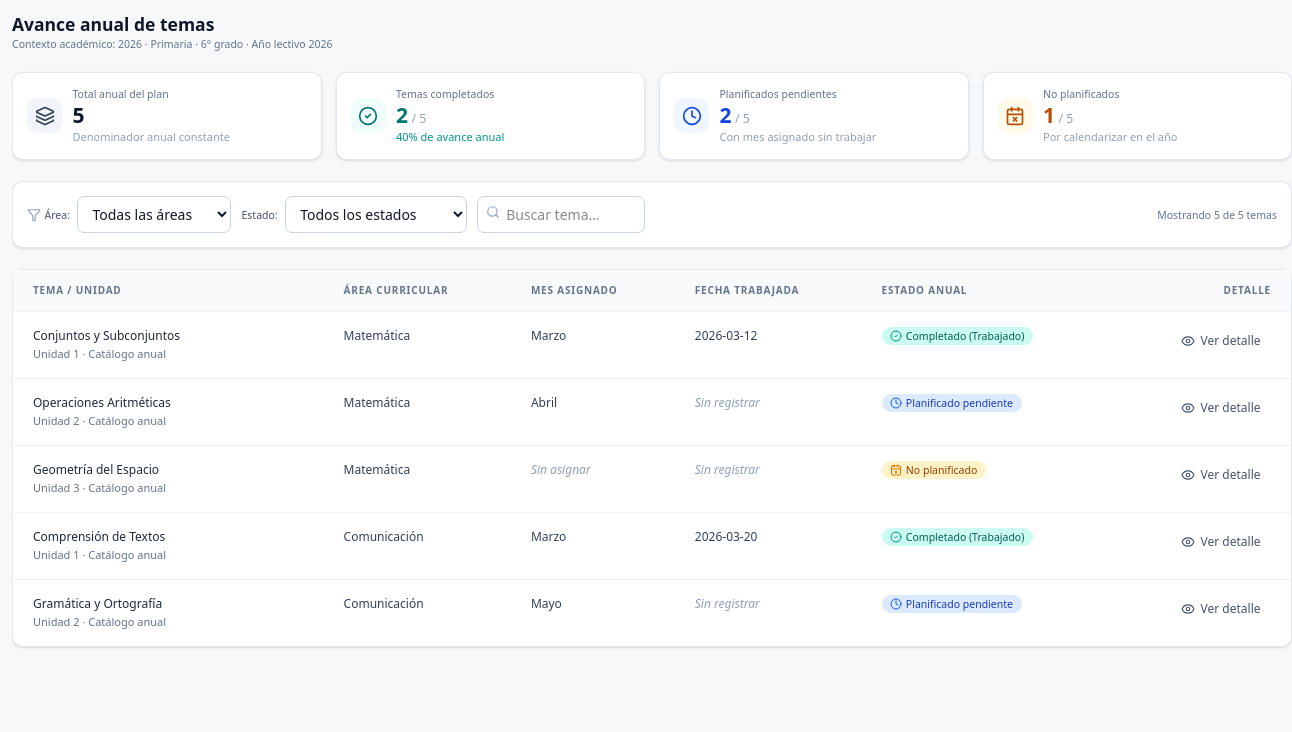
AnnualProgress Component › filters by area and status without modifying the total annual denominator
Expected: the text "Conjuntos y Subconjuntos" is shown, [33,327,180,344]
Expected: the text with test id "kpi-total-topics" reads "5", [72,100,84,128]
// Filter by area: Comunicación (has 2 topics)
Select "Comunicación (2)" in the dropdown named "filtrar por área" at (154, 214), box [77,196,231,233]
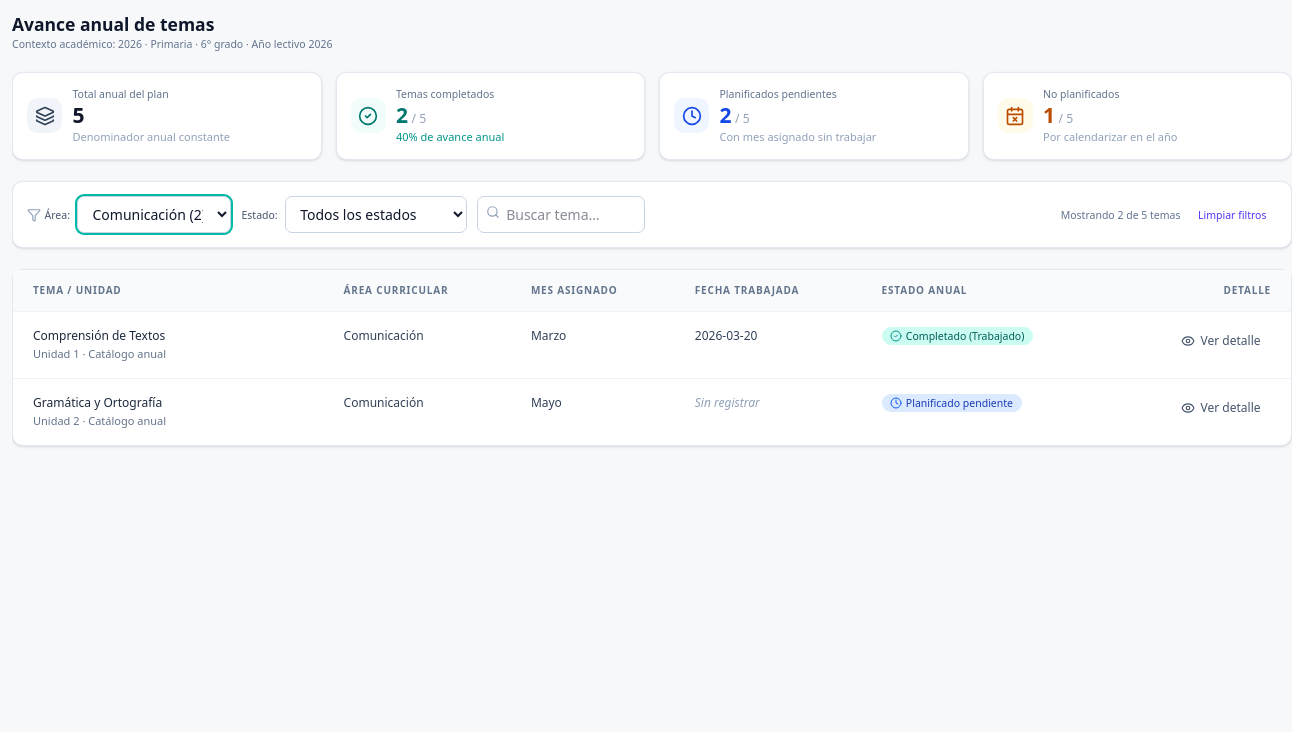
Expected: the text "Comprensión de Textos" is shown, [33,327,165,344]
Result: the text "Conjuntos y Subconjuntos" is gone
Result: the text "Mostrando 2 de 5 temas" is shown at [1061,208,1180,222]
// Filter by status: PLANIFICADO_PENDIENTE (only Gramática y Ortografía in Comunicación)
Select "Planificado pendiente" in the dropdown named "filtrar por estado" at (376, 214), box [285,196,467,233]
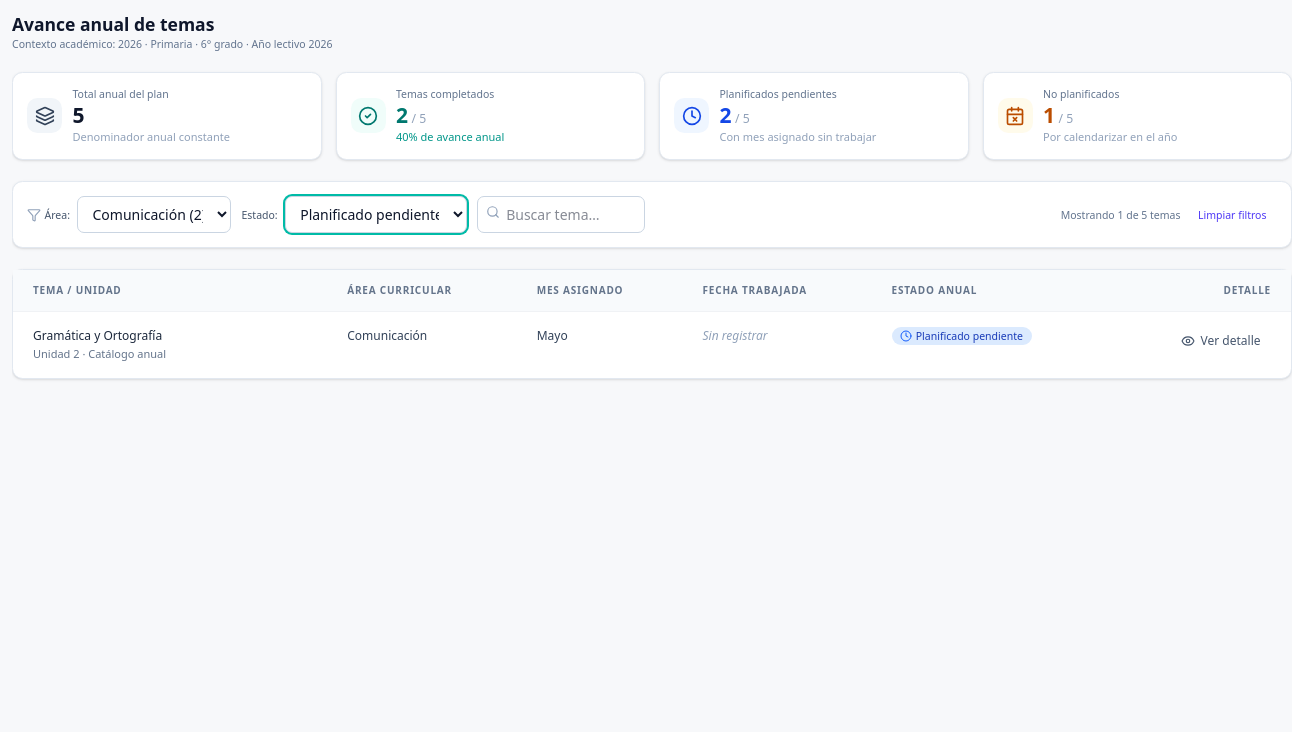
Expected: the text "Gramática y Ortografía" is shown, [33,327,162,344]
Result: the text "Comprensión de Textos" is gone
Result: the text "Mostrando 1 de 5 temas" is shown at [1061,208,1180,222]
